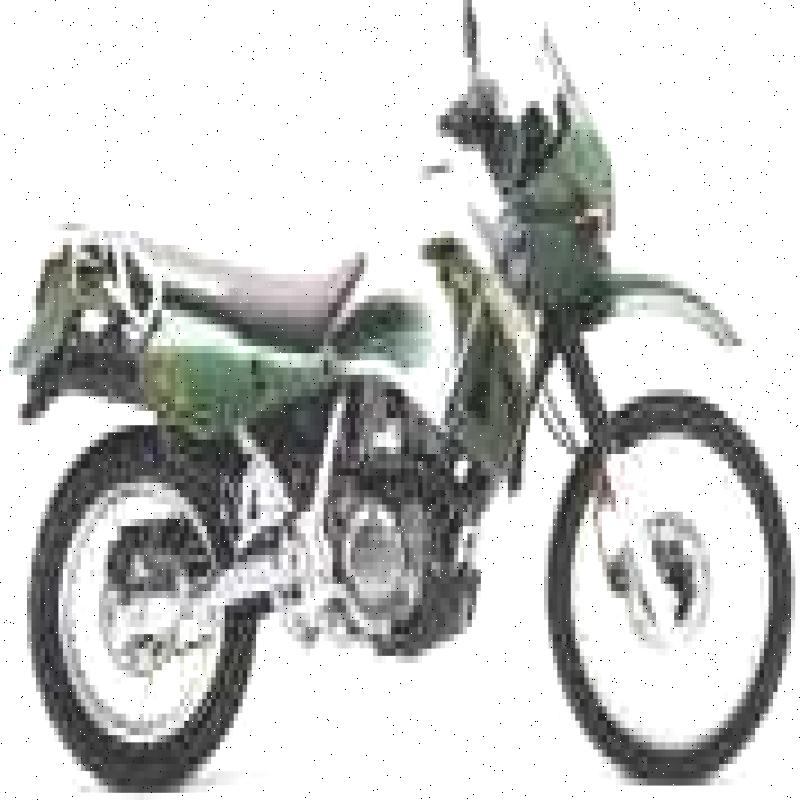bike: (9, 0, 800, 800)
